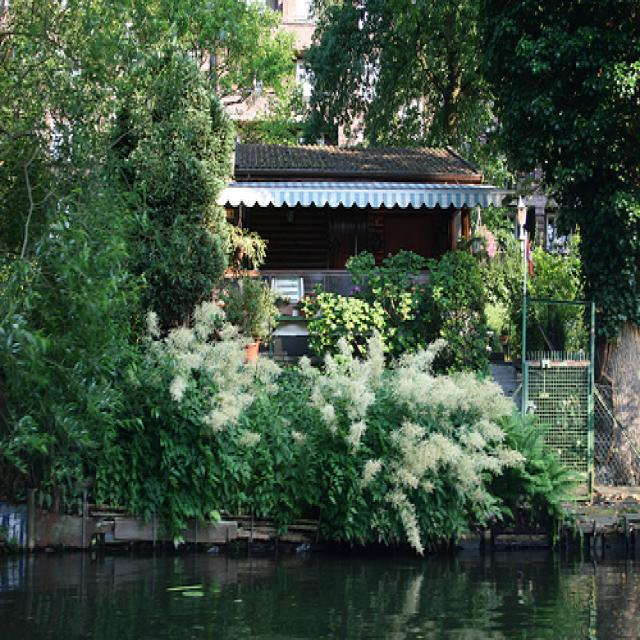pottedplant: (223, 277, 278, 363)
